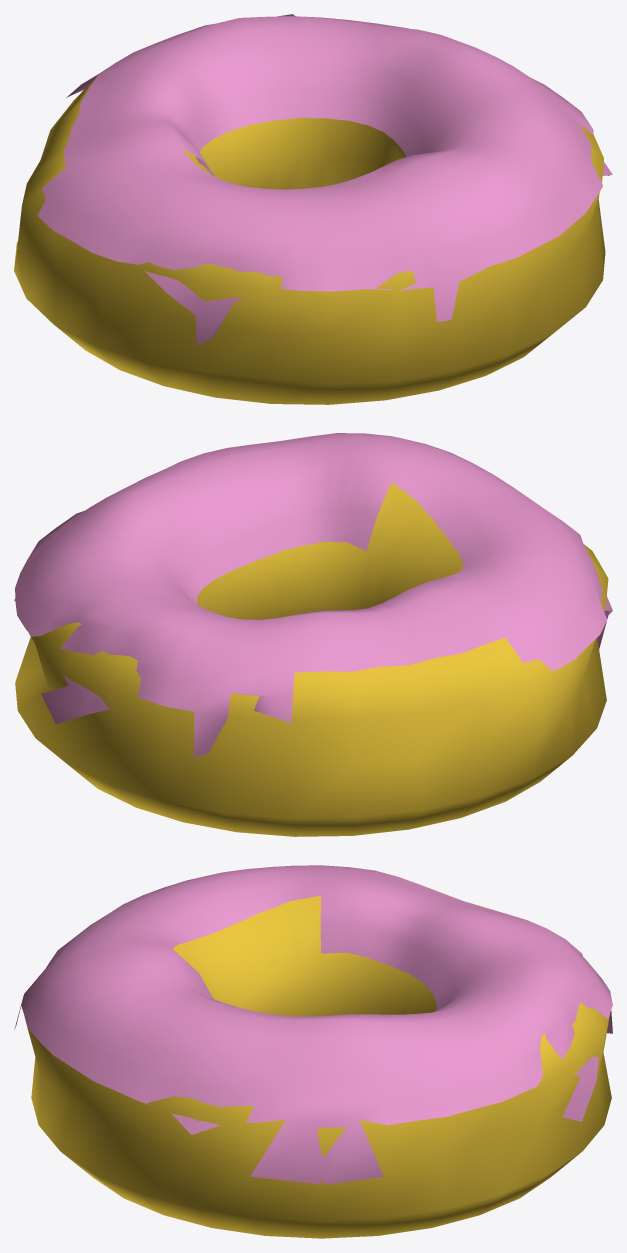
Rendered from donut.glb.
The picture shows the model from 3 angles, top to bottom: view 1: azimuth 30°, elevation 25°; view 2: azimuth 150°, elevation 25°; view 3: azimuth 270°, elevation 25°; orthographic projection. The views are drawn at different scales.
Parts seen in each view (by area): view 1: Frosting, Donut; view 2: Frosting, Donut; view 3: Frosting, Donut.
Part boxes in pixels (box(x1,y1,x2,y2)): Frosting: box(37, 14, 612, 345); Donut: box(14, 75, 605, 404); Frosting: box(14, 433, 612, 757); Donut: box(15, 482, 608, 836); Frosting: box(14, 865, 612, 1184); Donut: box(24, 887, 611, 1238).
Size of what is drawn, in the model's own units: 0.1461 by 0.0559 by 0.1477.
